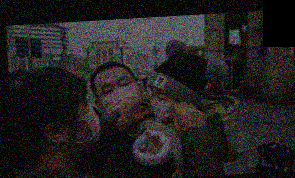with_mask: (64, 97, 102, 154), (96, 74, 141, 120), (150, 86, 178, 123)
